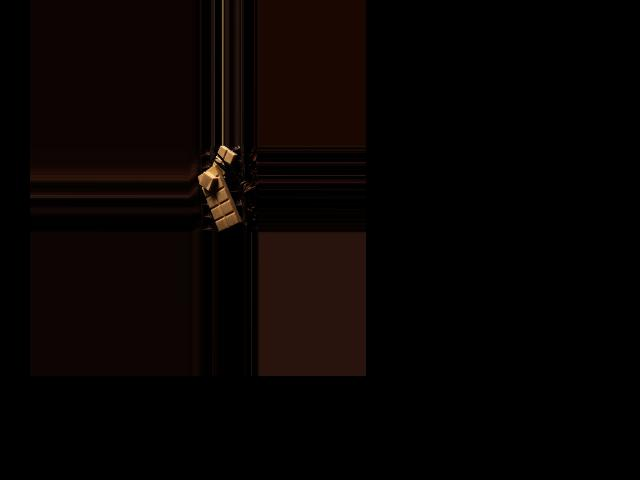chocolate: (198, 163, 240, 230)
